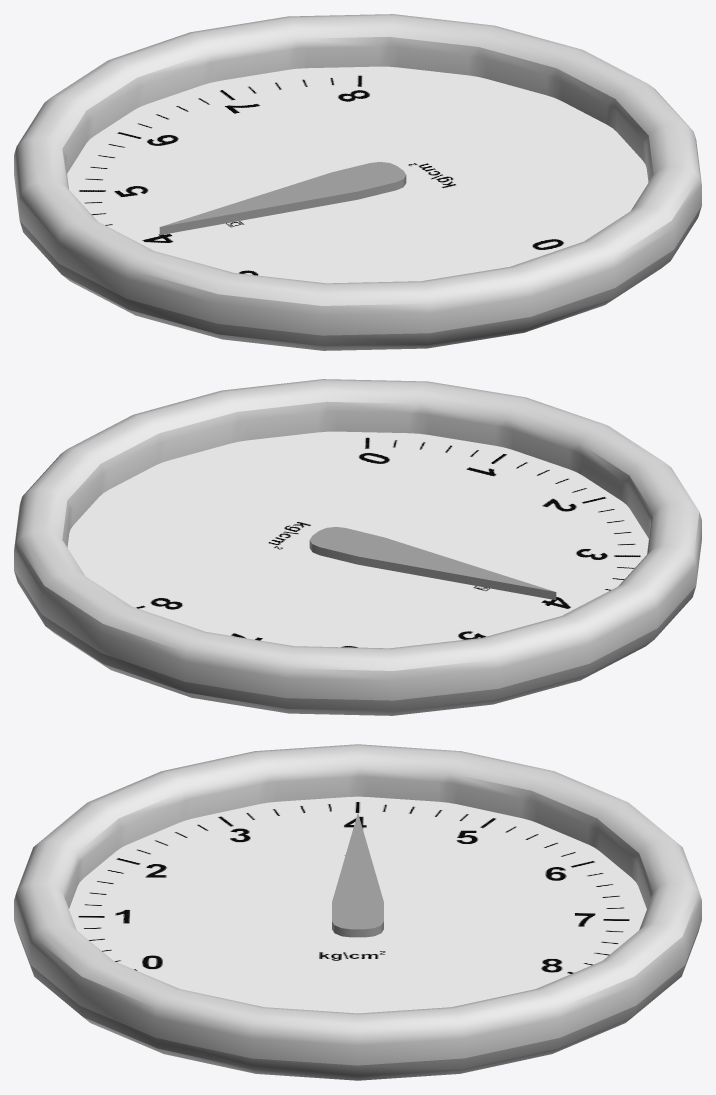
The model's file is PressureGauge.fbx.
3 views of the same model, one above another, from view 1: azimuth 30°, elevation 25°; view 2: azimuth 150°, elevation 25°; view 3: azimuth 270°, elevation 25° (orthographic).
Parts seen in each view (by area): view 1: Face, Gauge, Dial; view 2: Face, Gauge, Dial; view 3: Face, Gauge, Dial.
Part boxes in pixels (x1=…): Face: x1=67, y1=66, x2=648, y2=283; Gauge: x1=14, y1=14, x2=701, y2=350; Dial: x1=159, y1=162, x2=406, y2=235; Face: x1=67, y1=431, x2=648, y2=648; Gauge: x1=14, y1=379, x2=701, y2=715; Dial: x1=309, y1=527, x2=556, y2=600; Face: x1=69, y1=796, x2=646, y2=1013; Gauge: x1=14, y1=744, x2=701, y2=1080; Dial: x1=332, y1=813, x2=383, y2=937.
Bounding box in the file's own units: 2 × 0.1956 × 2.
